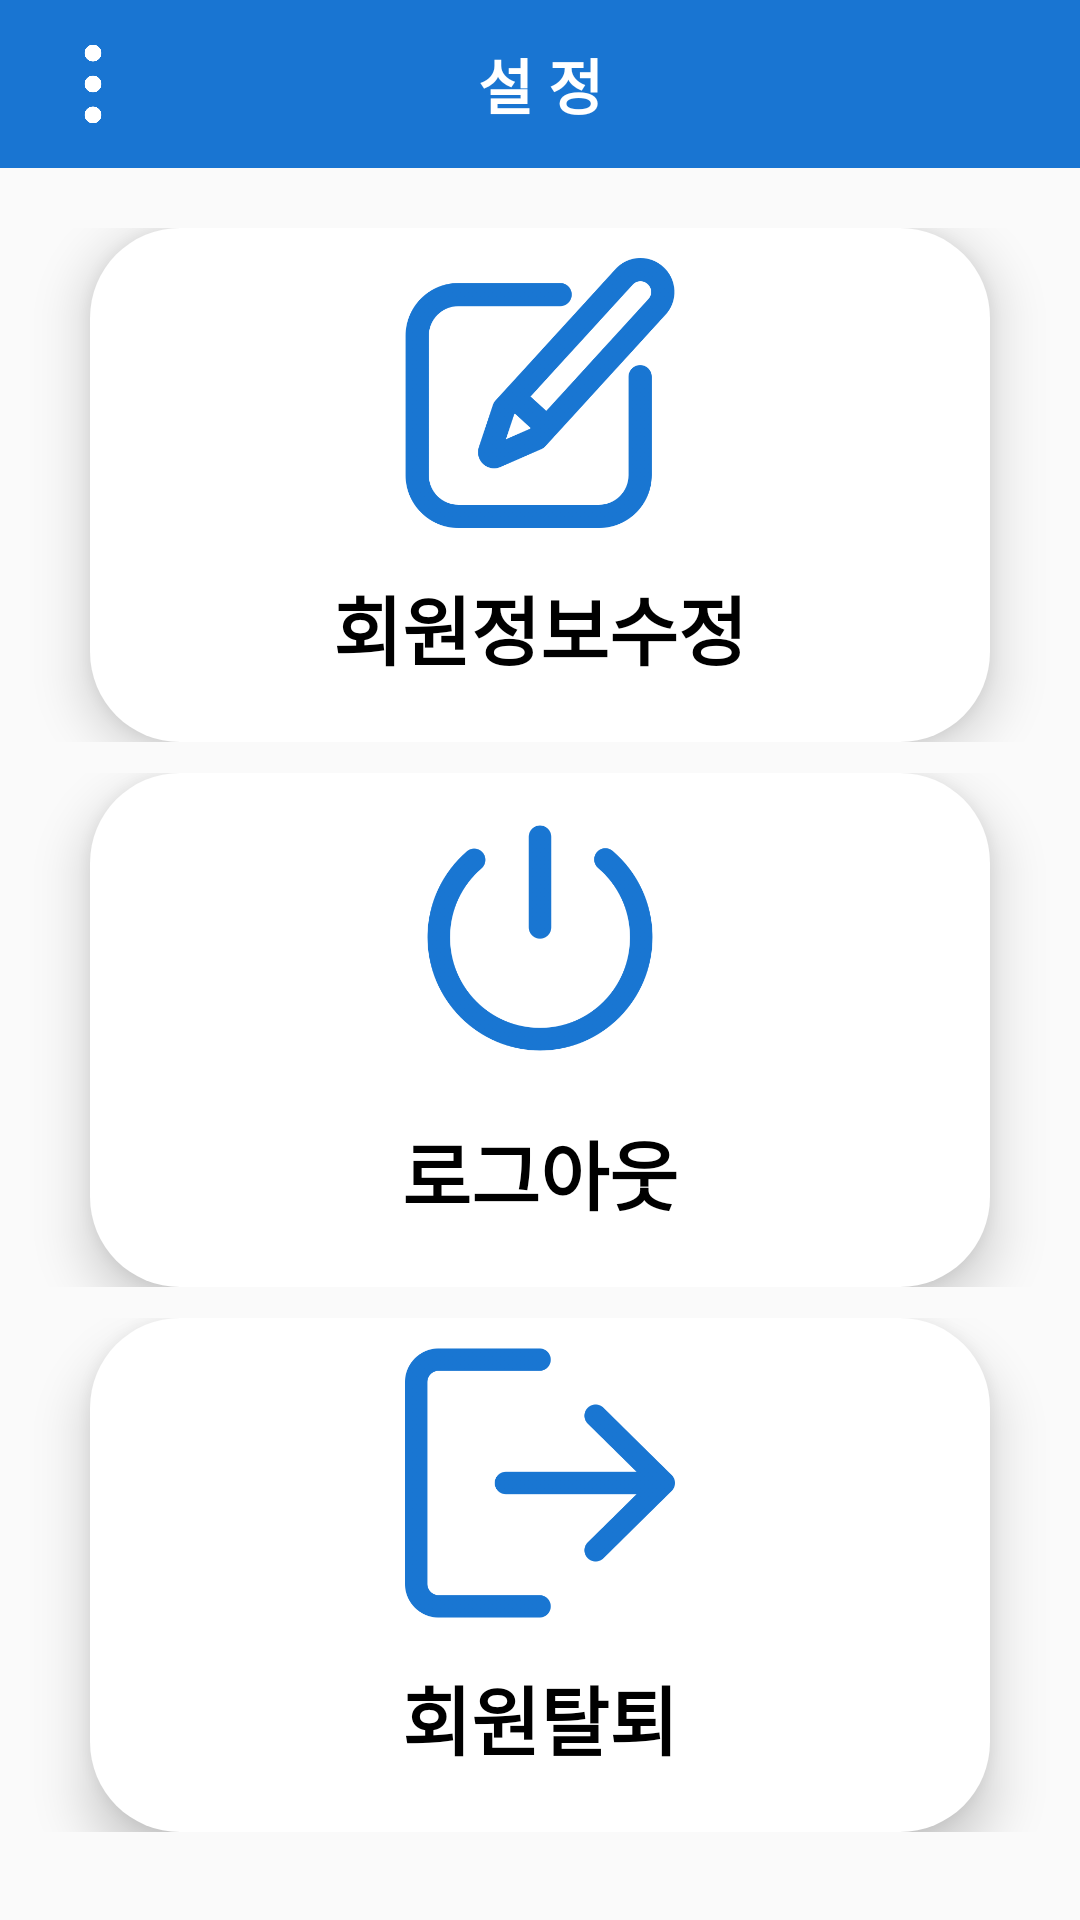

Where icons sit on this 1080 x 1920 app screen, as (x1, y1, x2, y2):
menu: (84, 45, 102, 123)
signout: (405, 1348, 675, 1618)
